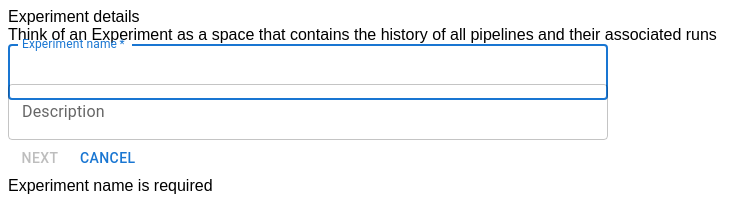
Scenario: NewExperiment › enables the 'Next' button when an experiment name is entered
The width and height of the screenshot is (734, 211).
In the field labelled "Experiment name *": {"x": 308, "y": 72} x1=8 y1=44 x2=608 y2=100, type "new-experiment-name"
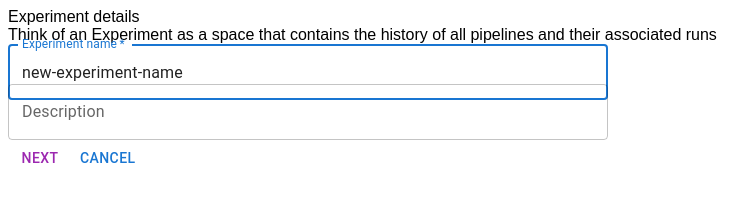
Result: the button "Next" is enabled at x1=8 y1=140 x2=72 y2=176
